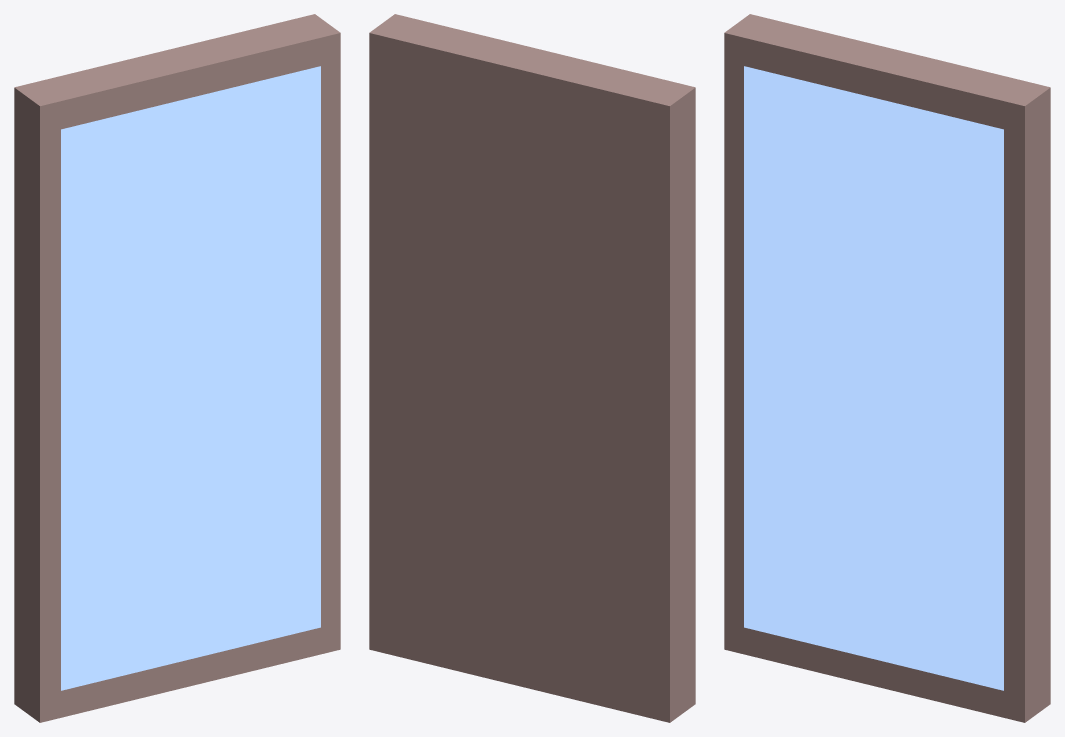
Rendered from prop_phone_texter.fbx.
The picture shows the model from 3 angles, left to right: view 1: azimuth 30°, elevation 25°; view 2: azimuth 150°, elevation 25°; view 3: azimuth 330°, elevation 25°; orthographic projection.
Visible parts, largest first — view 1: Prop_PhoneTexter_PhoneScreen, Prop_PhoneTexter_PhoneBodyRose; view 2: Prop_PhoneTexter_PhoneBodyRose; view 3: Prop_PhoneTexter_PhoneScreen, Prop_PhoneTexter_PhoneBodyRose.
Part boxes in pixels (left/top/right/bottom): Prop_PhoneTexter_PhoneScreen: left=61, top=66, right=320, bottom=690; Prop_PhoneTexter_PhoneBodyRose: left=14, top=14, right=340, bottom=722; Prop_PhoneTexter_PhoneBodyRose: left=369, top=14, right=695, bottom=722; Prop_PhoneTexter_PhoneScreen: left=744, top=66, right=1003, bottom=690; Prop_PhoneTexter_PhoneBodyRose: left=724, top=14, right=1050, bottom=722.
Size of the model in its own units: 0.074 by 0.145 by 0.0113.
